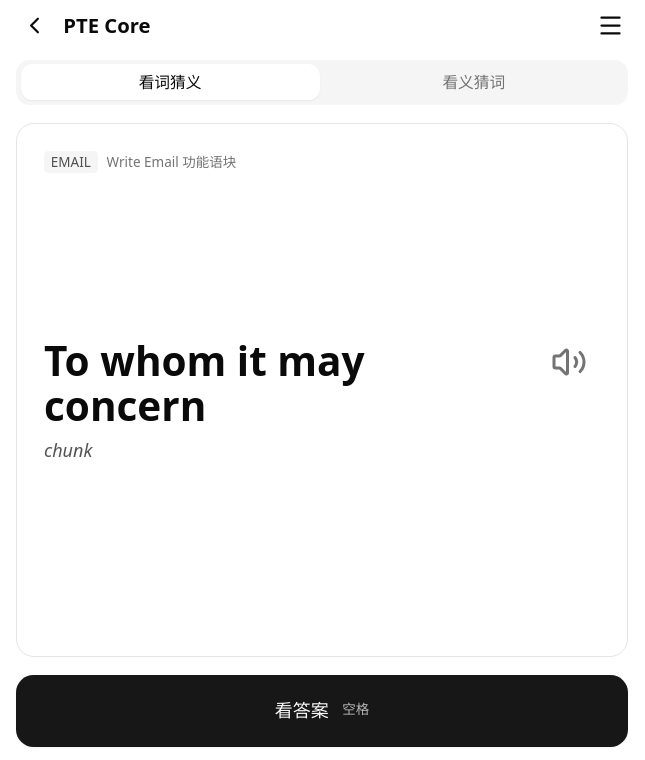
it: 背诵页 › 切到「看义猜词」后题面变成释义，且不泄露词条
The image size is (645, 760).
Click the radio button labelled "看义猜词" at x=474, y=82, box x1=324 y1=64 x2=624 y2=100
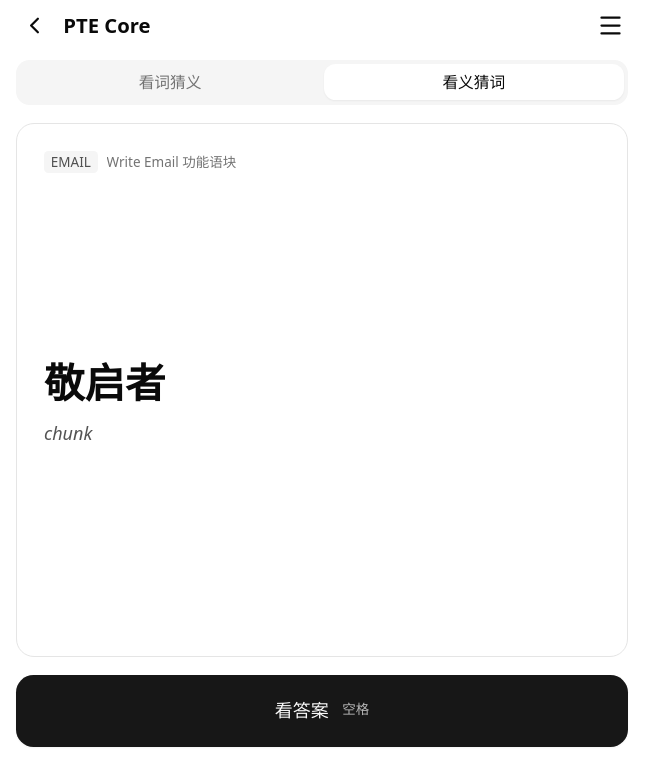
Check: the text "敬启者" is shown, box x1=44 y1=355 x2=166 y2=410
Check: the text "To whom it may concern" is gone
